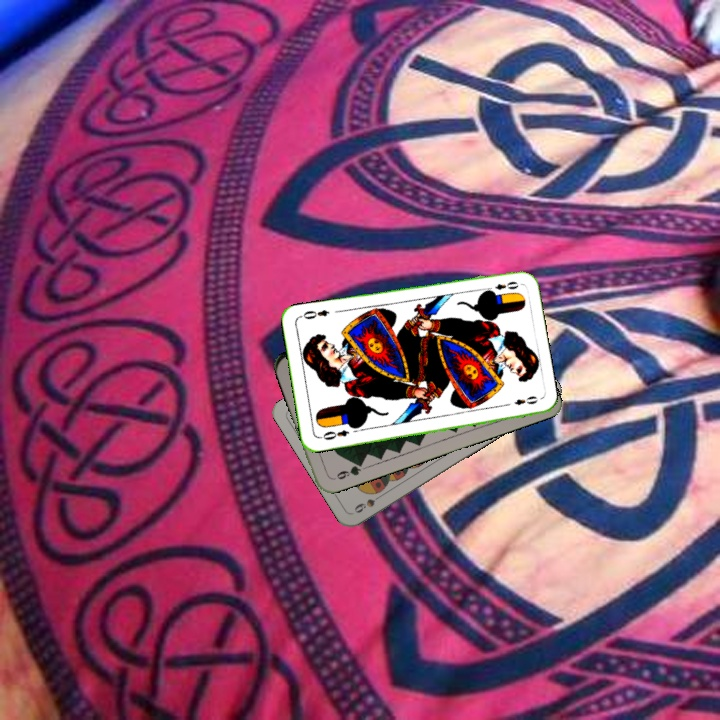EO: (482, 277, 521, 296), (315, 426, 352, 443)
G9: (328, 457, 366, 483)
S9: (350, 487, 387, 516)
